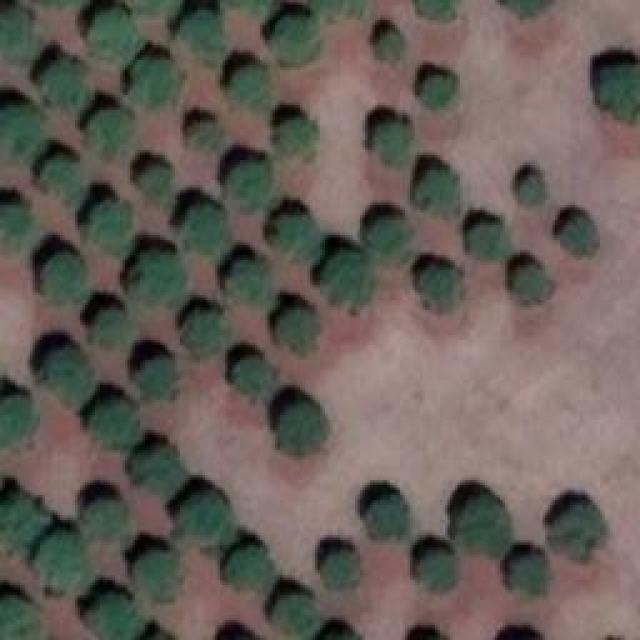Tree: (455, 495, 510, 555), (42, 348, 90, 411), (550, 505, 605, 558), (175, 498, 233, 548), (87, 200, 135, 258), (0, 495, 50, 550), (322, 253, 370, 306), (35, 533, 83, 586), (90, 10, 138, 60), (0, 105, 42, 162), (133, 448, 186, 493), (597, 65, 640, 120), (43, 58, 88, 110), (178, 13, 223, 63), (0, 390, 38, 448), (132, 58, 180, 103), (40, 157, 85, 205), (180, 205, 228, 250), (135, 255, 183, 300), (280, 405, 323, 453), (92, 403, 140, 446), (88, 110, 133, 155), (228, 163, 271, 208), (138, 553, 181, 598), (225, 545, 270, 588), (43, 252, 83, 300), (423, 267, 463, 315), (0, 8, 35, 61), (365, 220, 408, 263), (85, 500, 130, 540), (273, 20, 316, 60), (185, 313, 225, 356), (230, 260, 270, 303), (278, 215, 318, 258), (95, 600, 138, 640), (418, 170, 458, 213), (367, 495, 405, 540), (510, 555, 550, 595), (0, 597, 37, 640), (135, 360, 175, 398), (560, 215, 598, 255), (468, 222, 508, 260), (283, 310, 318, 353), (230, 67, 268, 105), (235, 360, 273, 398), (417, 552, 455, 590), (0, 205, 30, 253), (375, 123, 410, 163), (277, 598, 315, 633), (140, 165, 173, 203), (325, 553, 360, 588), (278, 120, 313, 153), (93, 310, 128, 343), (515, 265, 548, 298), (423, 78, 456, 108), (375, 30, 403, 63), (507, 0, 555, 18), (185, 123, 218, 148), (418, 0, 458, 18), (520, 175, 543, 205)
